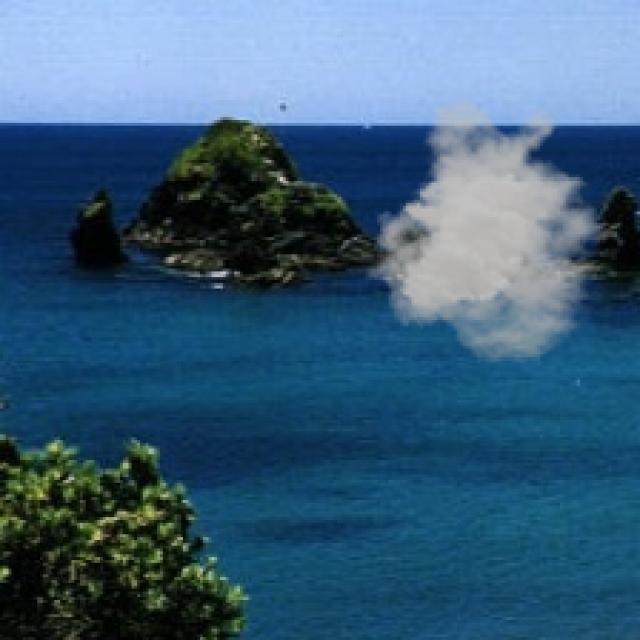Smoke: (366, 97, 628, 363)
